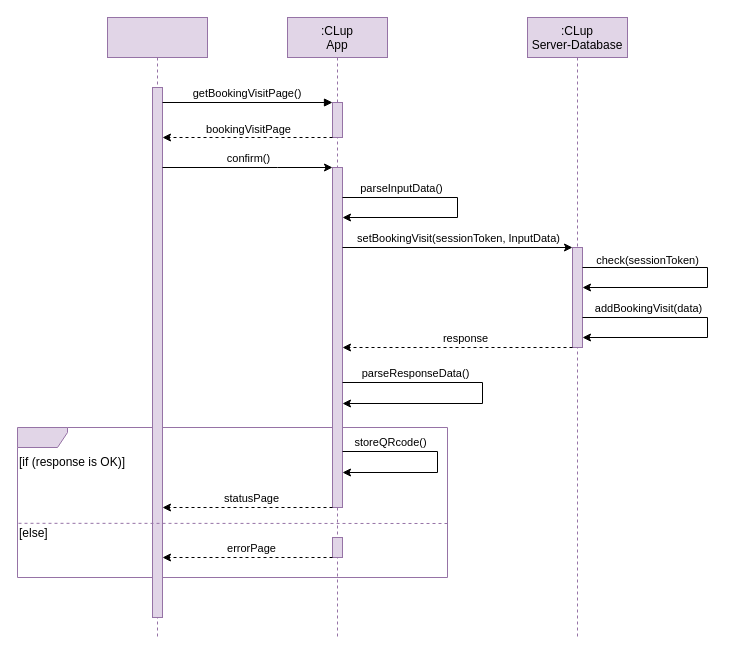
Image size: 733x655. Some labels were removed from this diagram. The box of each missing label's shape, as (x1, y1, x2, y2) in pixels:
:User: (106, 16, 208, 638)
alt: (16, 426, 448, 578)
